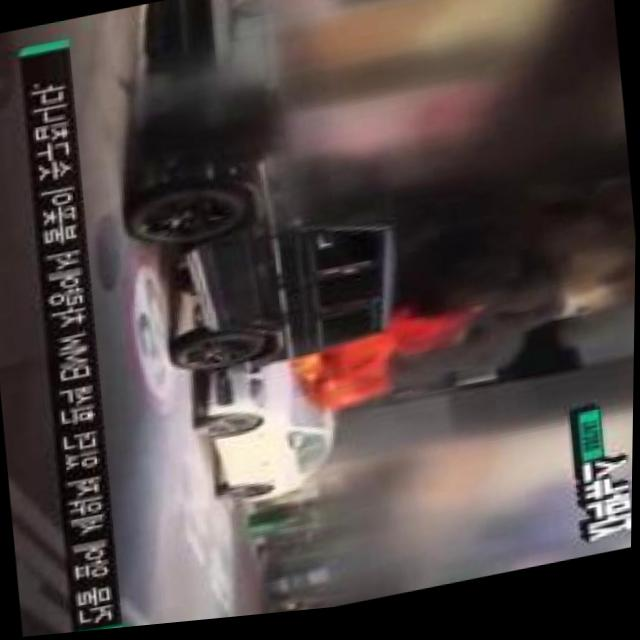Fire: (293, 321, 427, 418)
